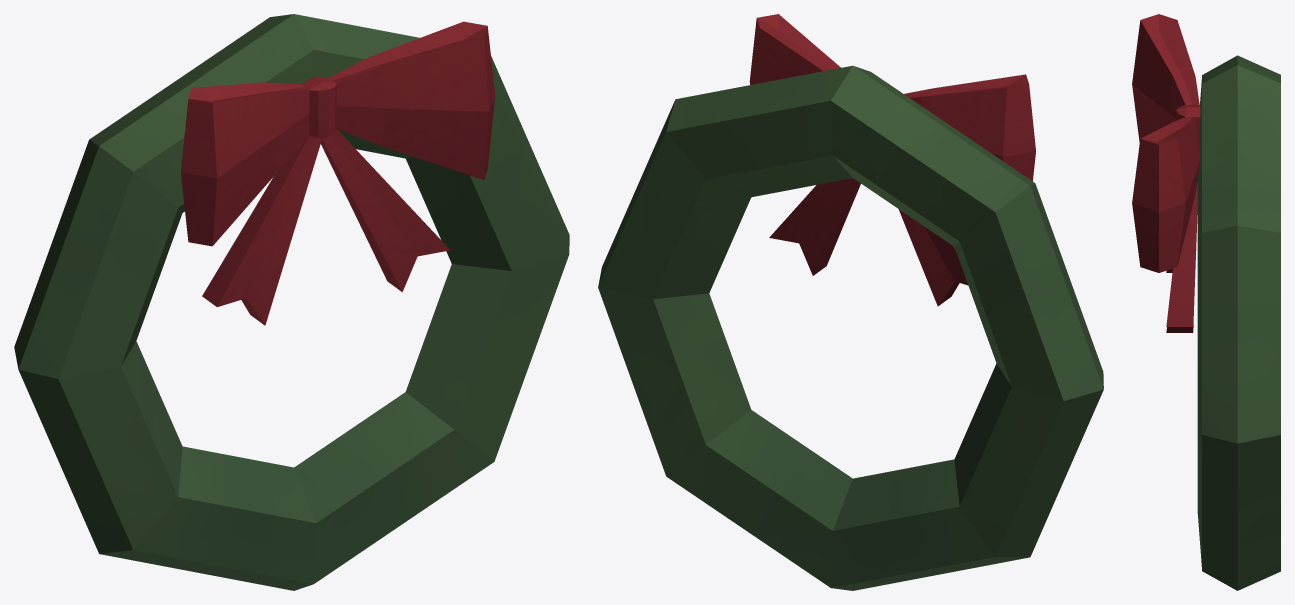
File: wreath.obj
The picture shows the model from 3 angles, left to right: view 1: azimuth 30°, elevation 25°; view 2: azimuth 150°, elevation 25°; view 3: azimuth 270°, elevation 25°; orthographic projection. The views are drawn at different scales.
Visible parts, largest first — view 1: wreath; view 2: wreath; view 3: wreath.
Part boxes in pixels (left/top/right/bottom): wreath: left=14, top=14, right=569, bottom=590; wreath: left=598, top=14, right=1103, bottom=590; wreath: left=1132, top=14, right=1280, bottom=590.
Size of the model in its own units: 0.757 by 0.757 by 0.1977.
